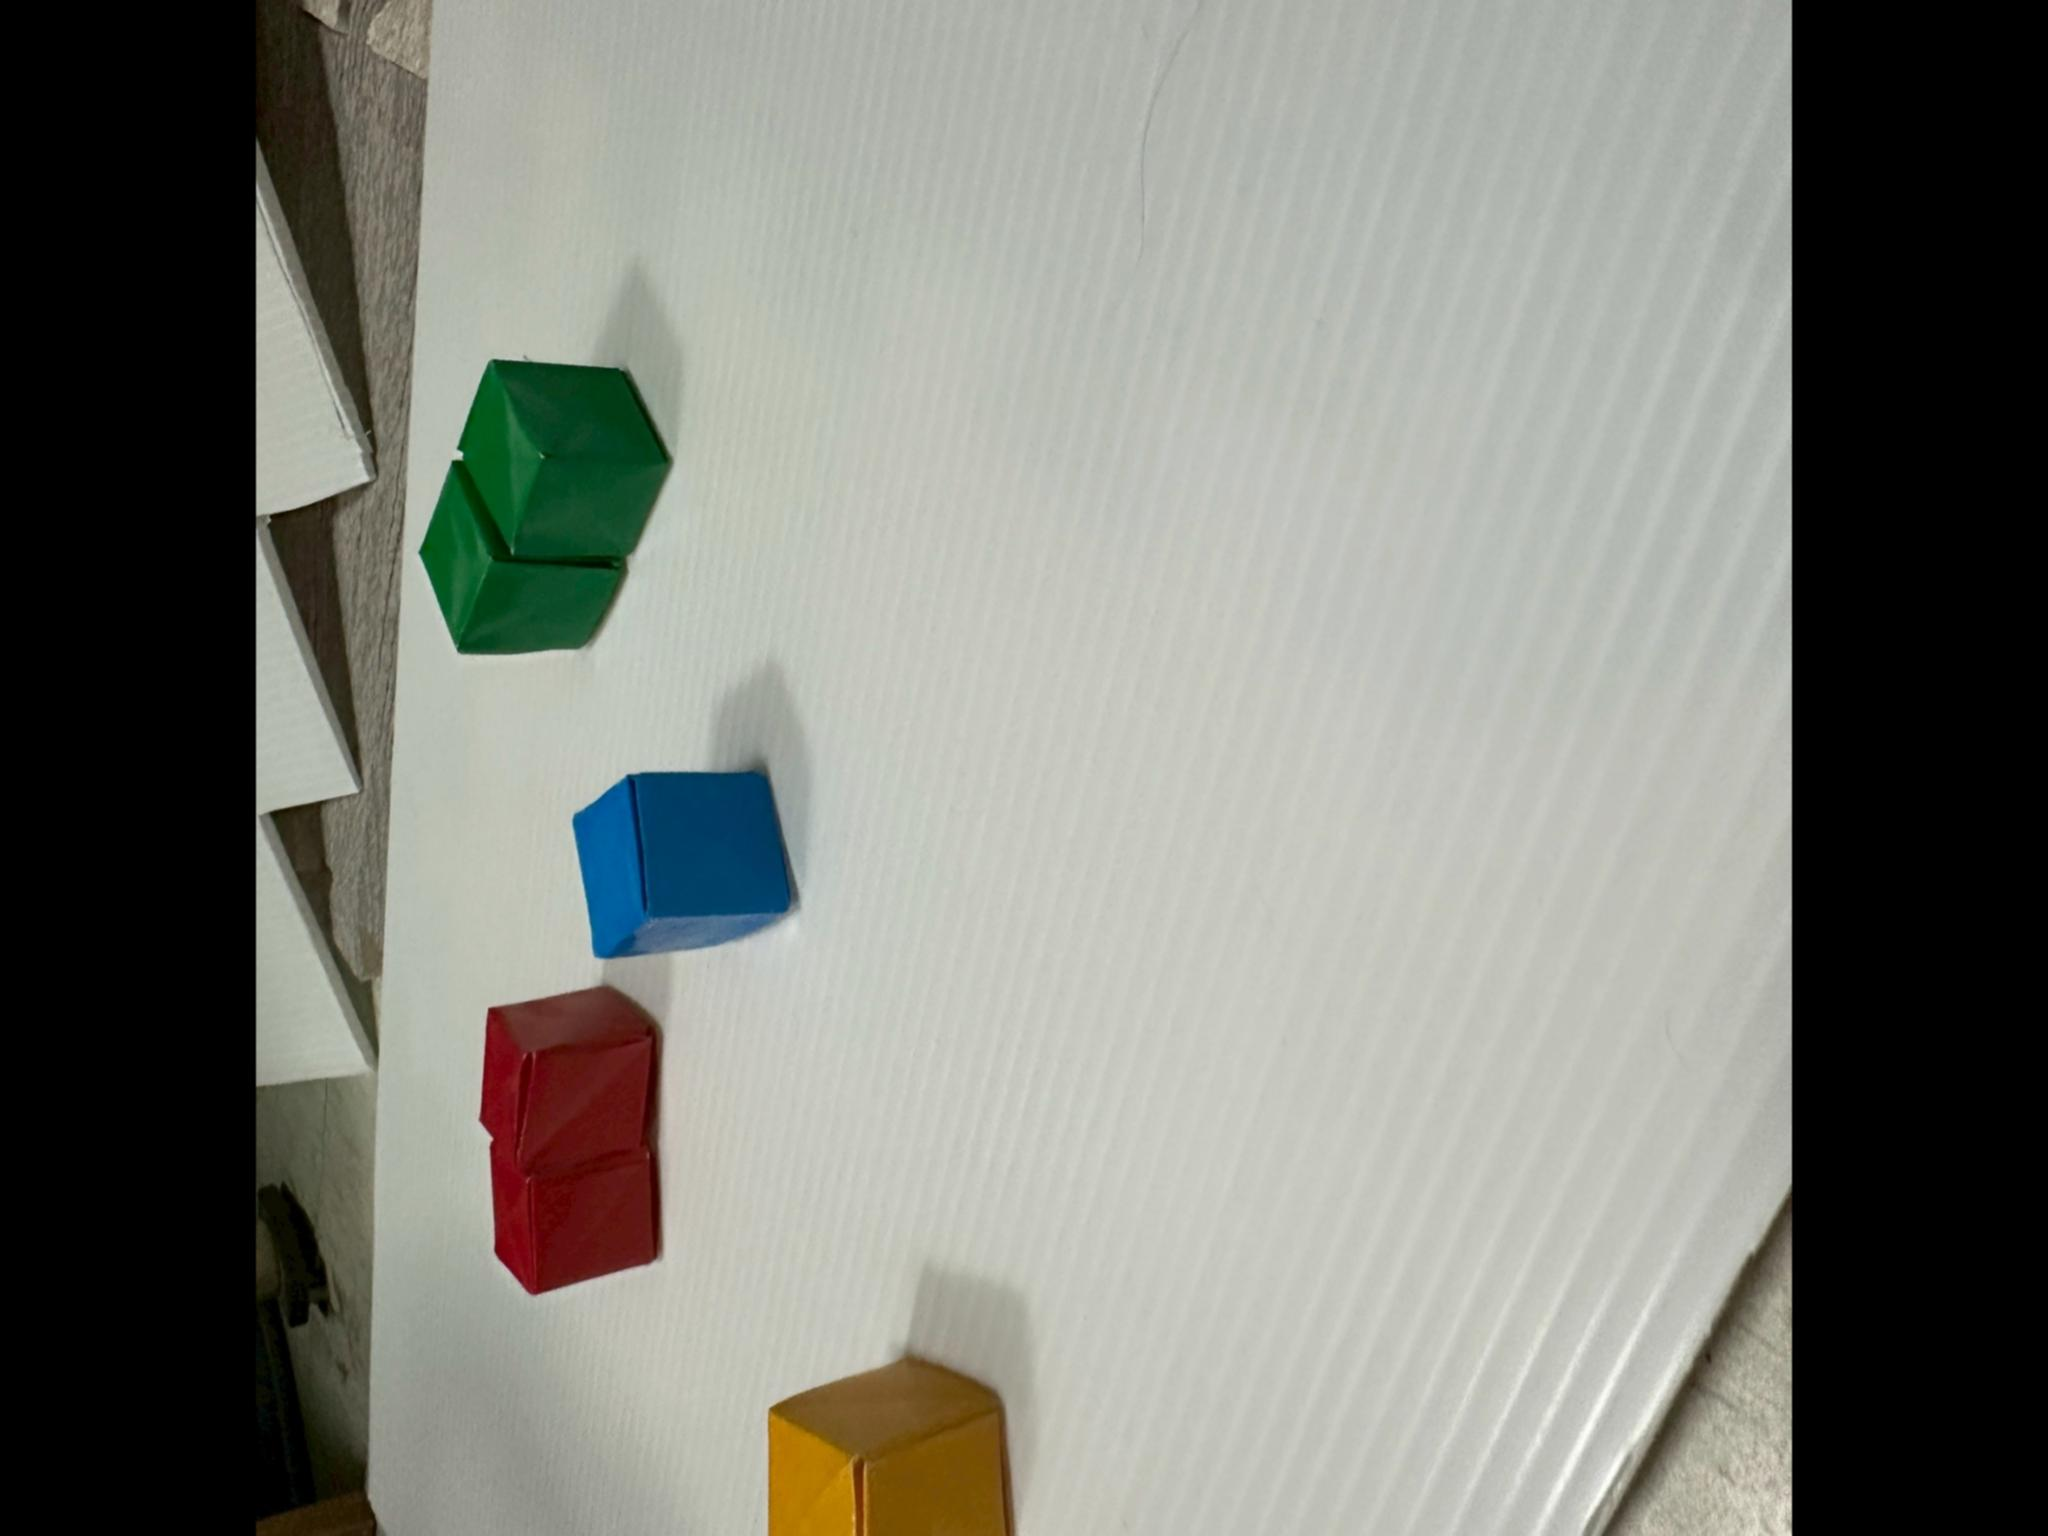cube: (769, 1357, 1011, 1536), (461, 360, 668, 558), (574, 771, 793, 957), (421, 461, 619, 653), (481, 987, 655, 1178), (492, 1146, 656, 1292)
